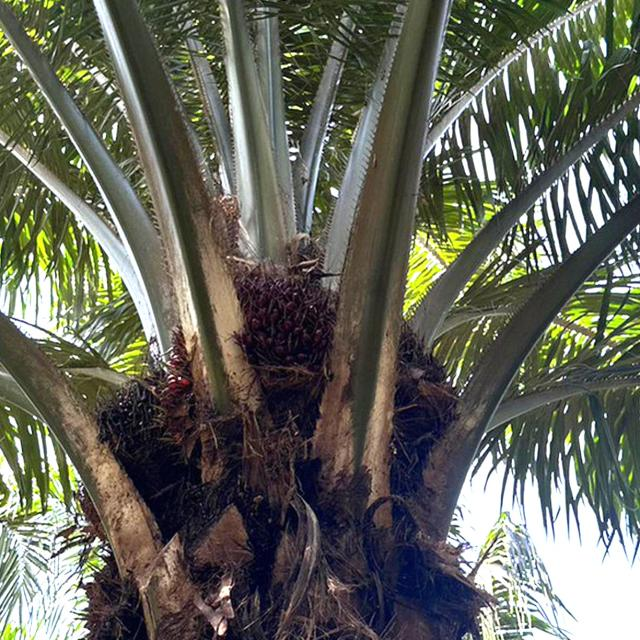ripe: (204, 242, 360, 410)
